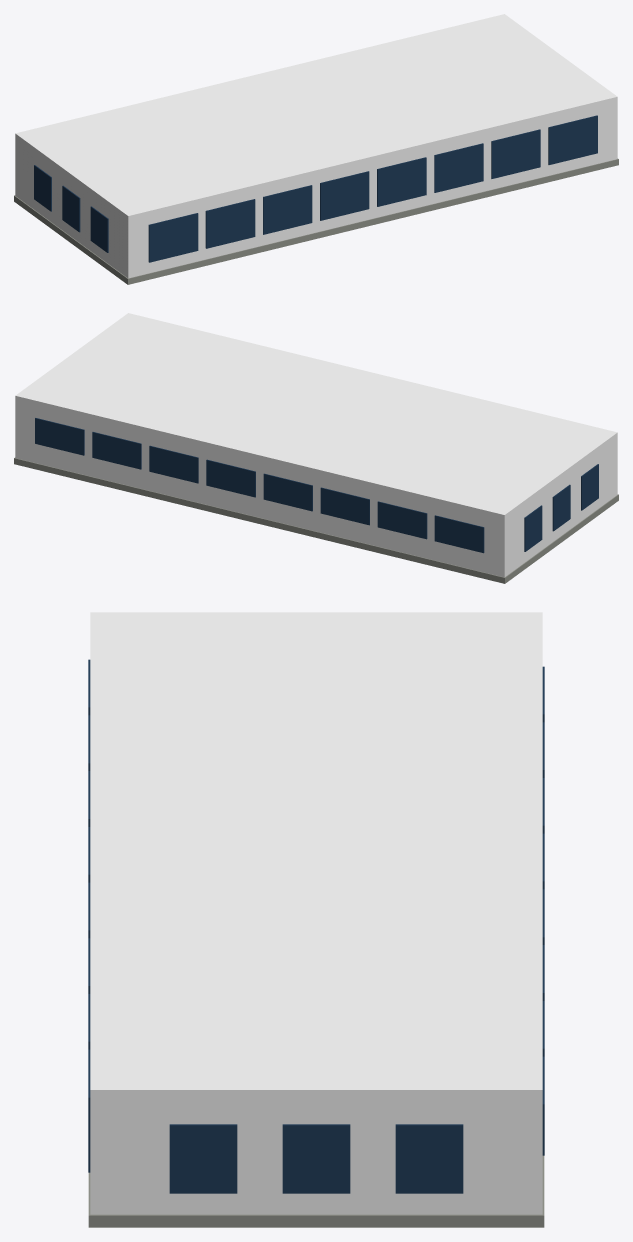
Rendered from mashup-main-mid-prebuilt.fbx.
3 views of the same model, one above another, from view 1: azimuth 30°, elevation 25°; view 2: azimuth 150°, elevation 25°; view 3: azimuth 270°, elevation 25° (orthographic). The views are drawn at different scales.
Visible parts, largest first — view 1: a200.MainMid; view 2: a200.MainMid; view 3: a200.MainMid.
Part boxes in pixels (<box>): a200.MainMid: <box>14,14,618,284</box>; a200.MainMid: <box>14,313,618,583</box>; a200.MainMid: <box>88,612,544,1227</box>.
Bounding box in the file's own units: 30.12 × 4 × 12.12.
